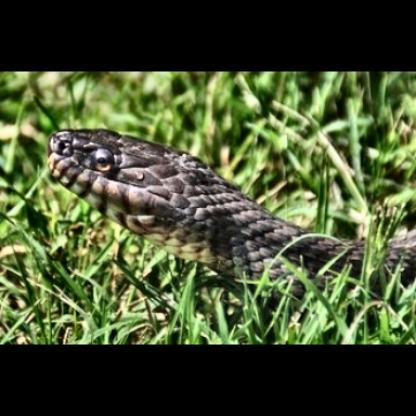Snake: (42, 125, 410, 312)
